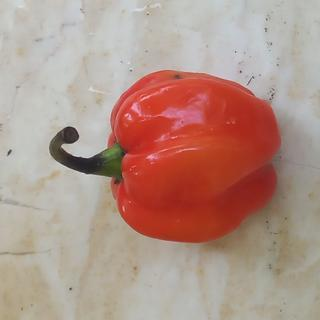Fly-bites: (169, 71, 187, 83)
